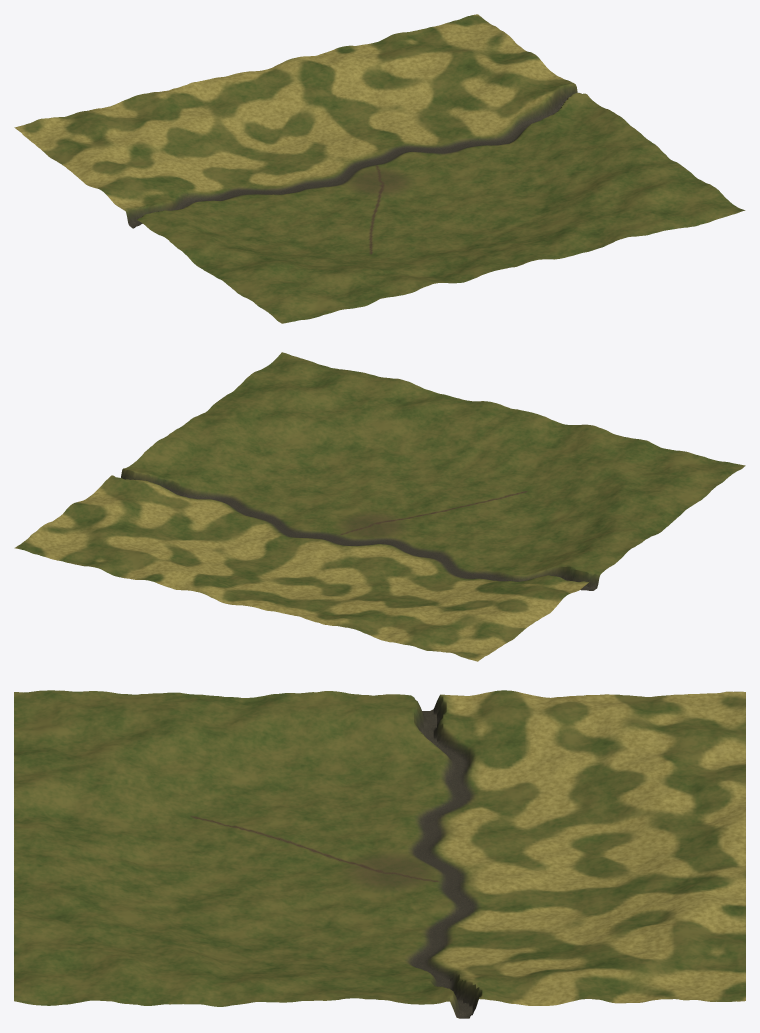
The model's file is SM_Terrain.glb.
3 renders of one model, top to bottom at view 1: azimuth 30°, elevation 25°; view 2: azimuth 150°, elevation 25°; view 3: azimuth 270°, elevation 25°, orthographic. The views are drawn at different scales.
Parts seen in each view (by area): view 1: SM_Terrain; view 2: SM_Terrain; view 3: SM_Terrain.
Boxes of the visible parts, x1,y1,x2,y2 form: SM_Terrain: (14,14,745,323); SM_Terrain: (14,352,745,661); SM_Terrain: (14,690,745,1018).
Bounding box in the file's own units: 900 × 42.37 × 900.
1 material, 1 textured.
